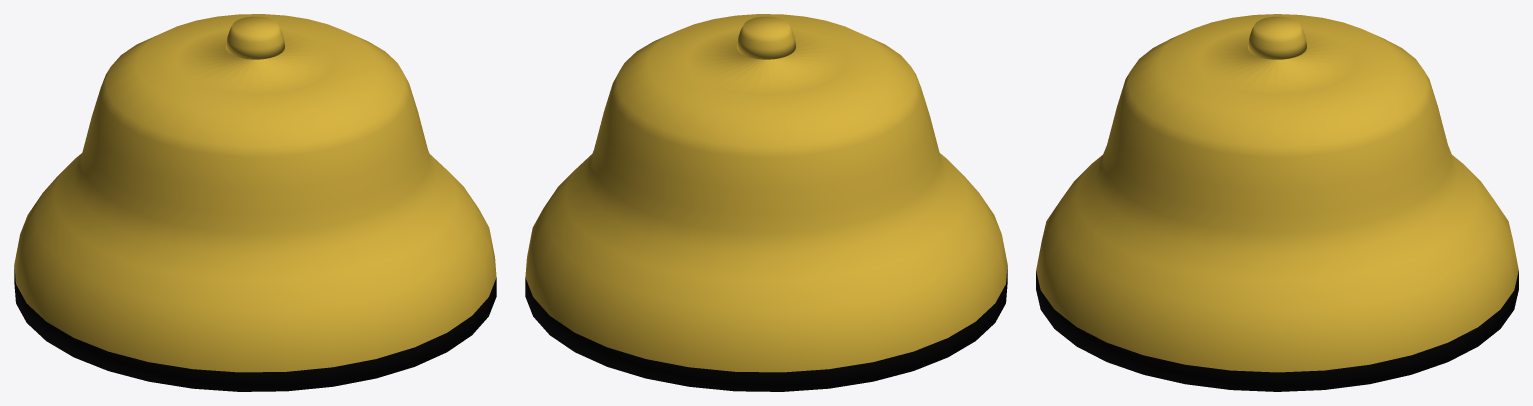
File: campanello.fbx
3 views of the same model, side by side, from view 1: azimuth 30°, elevation 25°; view 2: azimuth 150°, elevation 25°; view 3: azimuth 270°, elevation 25° (orthographic).
Parts seen in each view (by area): view 1: Circle; view 2: Circle; view 3: Circle.
Part boxes in pixels (x1,y1,x2,y2): Circle: (14, 14, 496, 391); Circle: (525, 14, 1007, 391); Circle: (1036, 14, 1518, 391).
Size of the model in its own units: 368 by 222 by 368.
